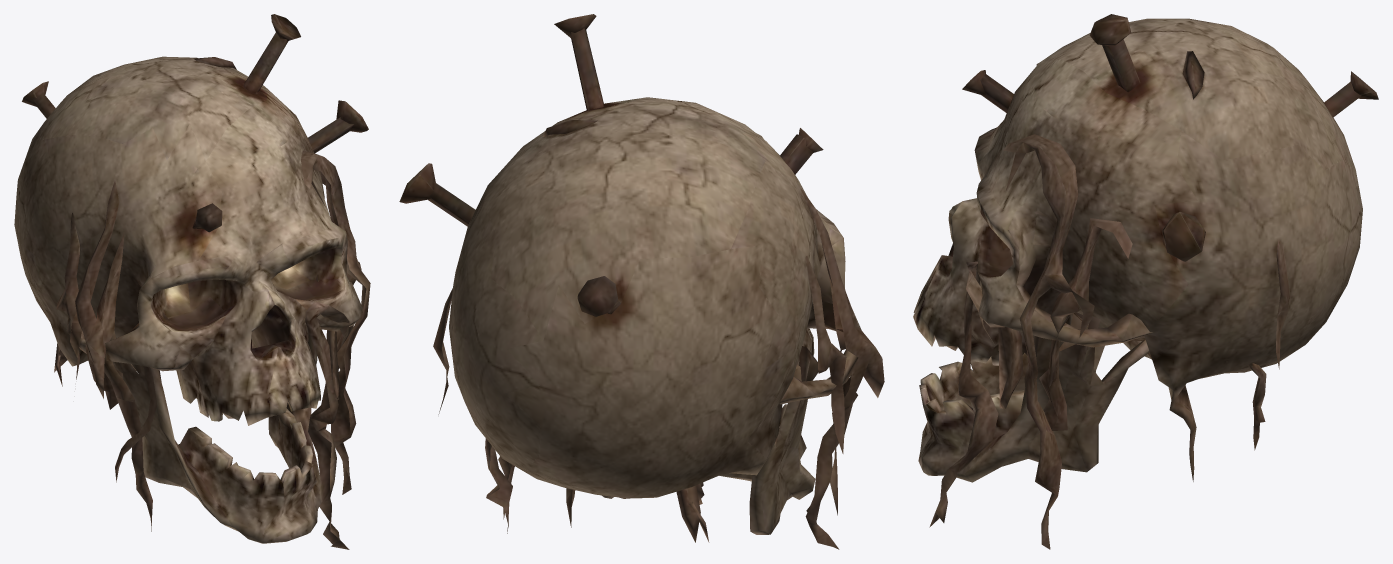
File: mon_skullfly.glb
3 renders of one model, left to right at view 1: azimuth 30°, elevation 25°; view 2: azimuth 150°, elevation 25°; view 3: azimuth 270°, elevation 25°, orthographic. The views are drawn at different scales.
Parts seen in each view (by area): view 1: mon_skullfly; view 2: mon_skullfly; view 3: mon_skullfly.
Part boxes in pixels (x1,y1,x2,y2): mon_skullfly: [14, 14, 370, 549]; mon_skullfly: [399, 14, 884, 549]; mon_skullfly: [913, 14, 1378, 549].
Size of the model in its own units: 0.7574 by 1 by 0.818.
Materials: 1 (1 with a texture image).
